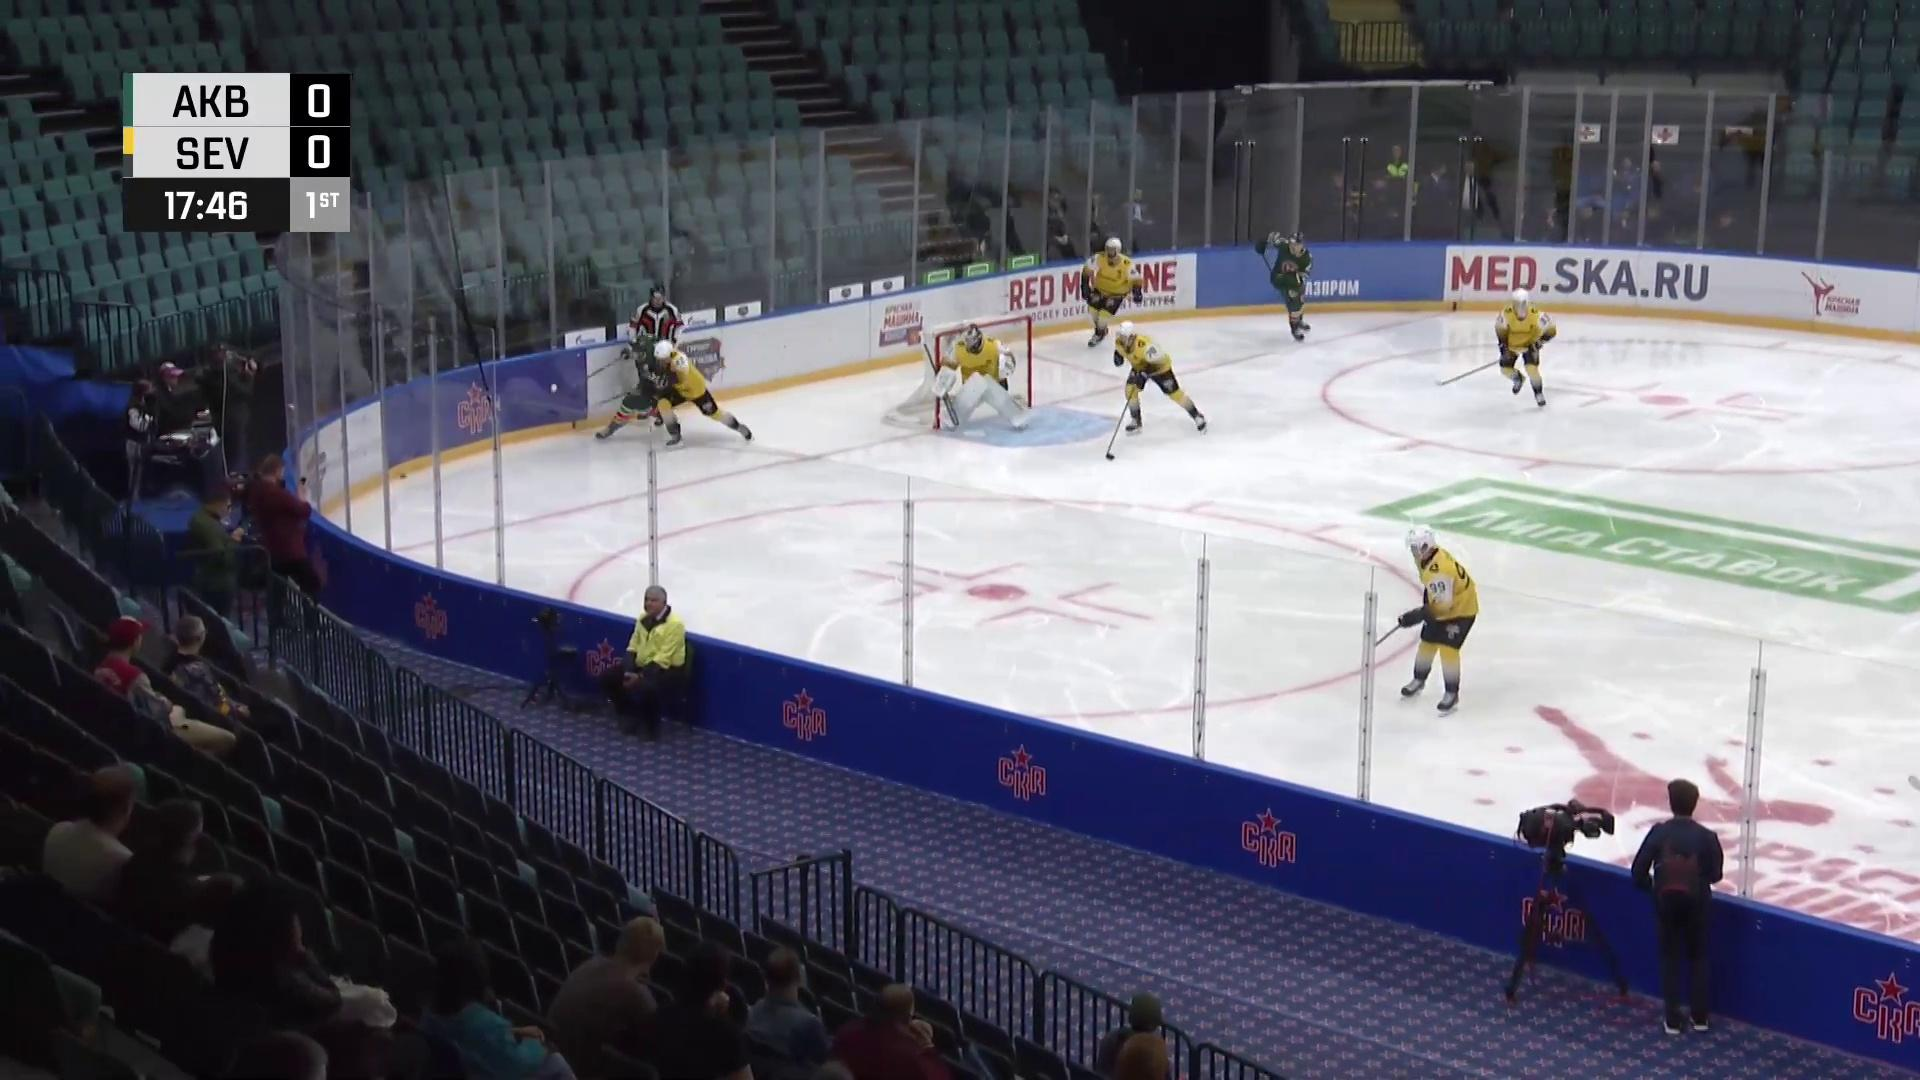ball: (398, 472, 407, 480)
